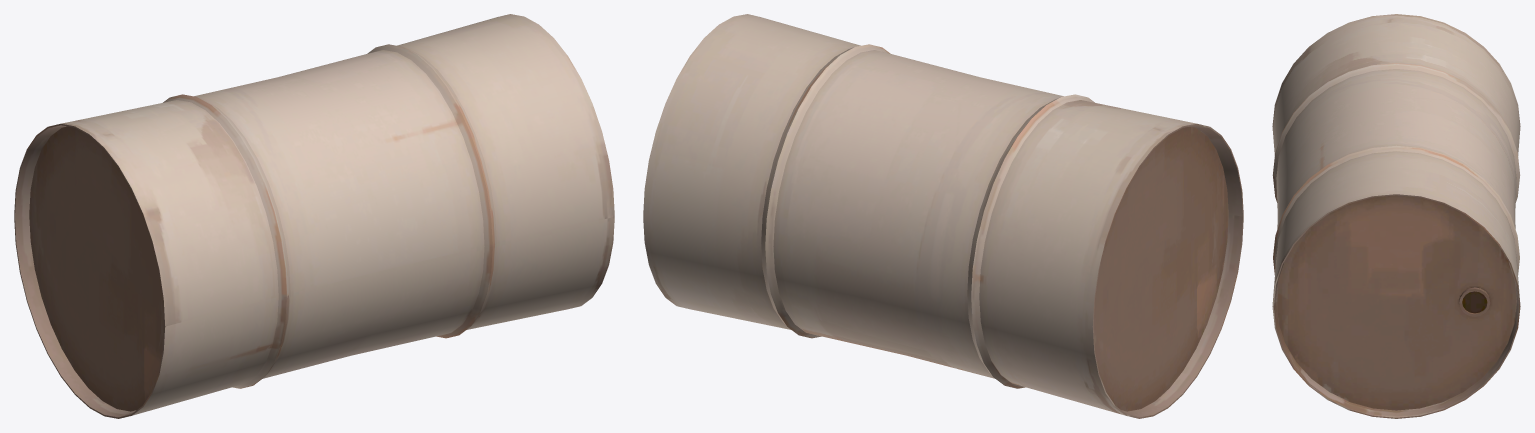
File: props_2fort_oildrum.glb
3 views of the same model, side by side, from view 1: azimuth 30°, elevation 25°; view 2: azimuth 150°, elevation 25°; view 3: azimuth 270°, elevation 25° (orthographic). The views are drawn at different scales.
Visible parts, largest first — view 1: models/props_2fort/oildrum; view 2: models/props_2fort/oildrum; view 3: models/props_2fort/oildrum.
Boxes of the visible parts, x1,y1,x2,y2 form: models/props_2fort/oildrum: (14, 14, 614, 418); models/props_2fort/oildrum: (643, 14, 1243, 418); models/props_2fort/oildrum: (1272, 14, 1520, 418).
Size of the model in its own units: 55 by 32 by 32.
1 material, 1 textured.
